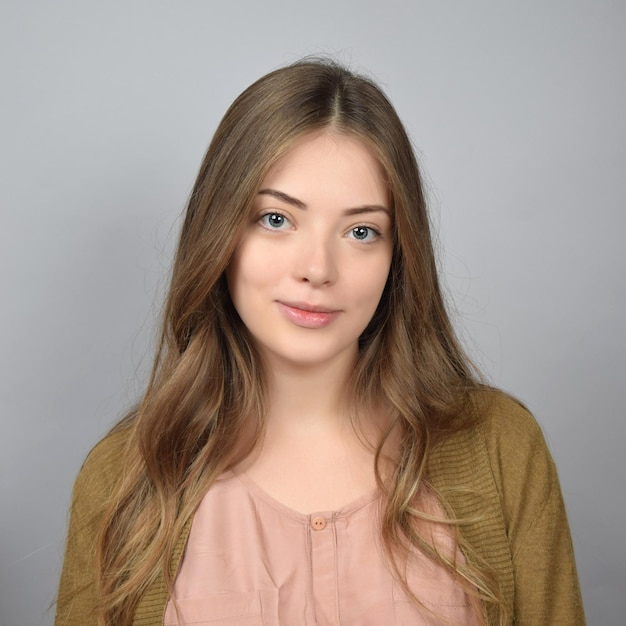young: (185, 74, 429, 400)
